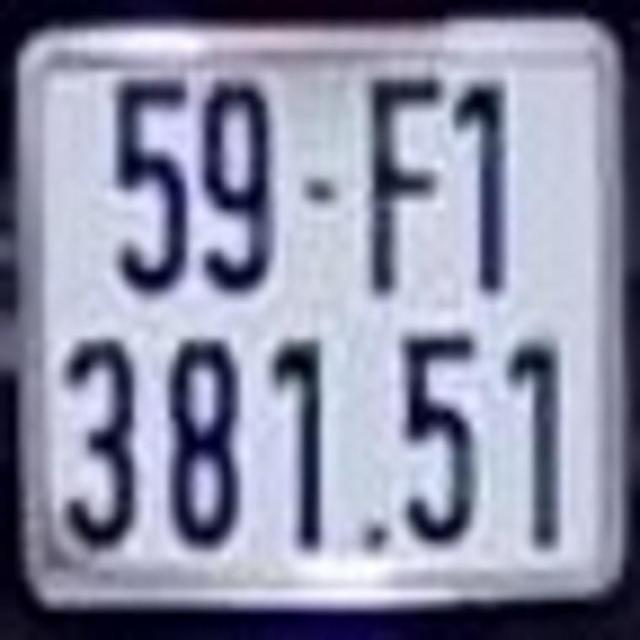1: (270, 333, 332, 544), (516, 338, 571, 553), (463, 76, 515, 294)
3: (69, 338, 132, 543)
5: (400, 333, 481, 546), (119, 76, 190, 286)
8: (168, 335, 244, 544)
9: (201, 87, 274, 290)
F: (366, 73, 456, 290)
